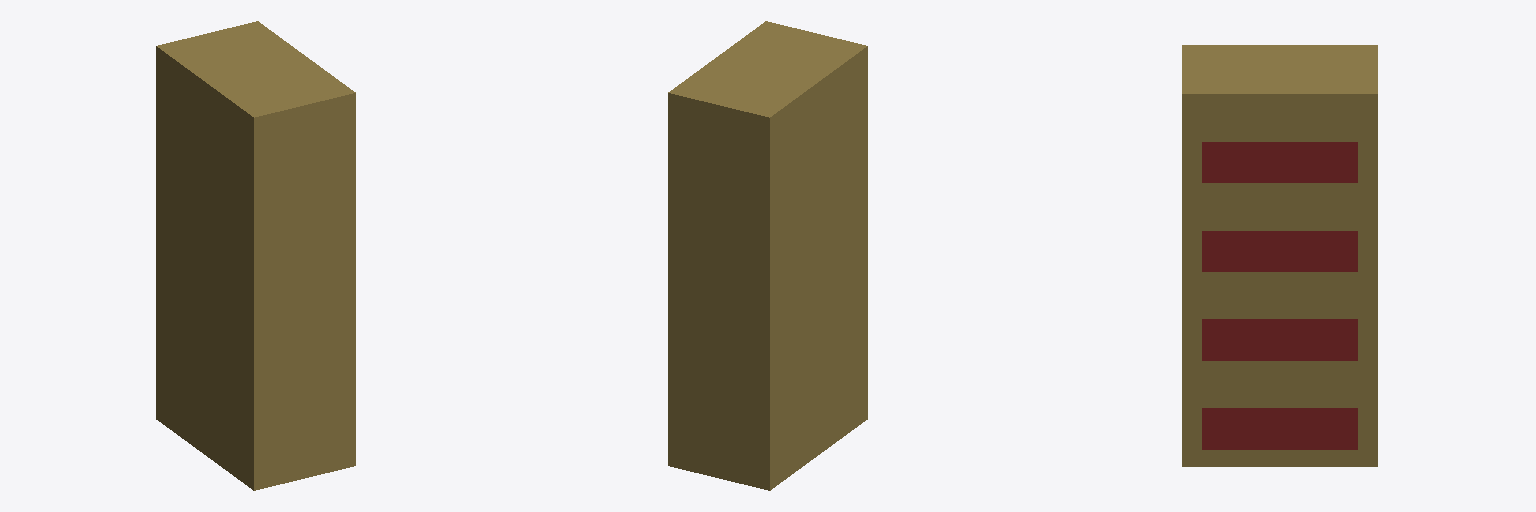
3 renders of one model, left to right at view 1: azimuth 30°, elevation 25°; view 2: azimuth 150°, elevation 25°; view 3: azimuth 270°, elevation 25°, orthographic.
Parts seen in each view (by area): view 1: cuboid; view 2: cuboid; view 3: cuboid.
Boxes of the visible parts, x1=… form: cuboid: x1=156, y1=21, x2=355, y2=490; cuboid: x1=668, y1=21, x2=867, y2=490; cuboid: x1=1182, y1=45, x2=1377, y2=466.
Size of the model in its own units: 0.375 by 1.31 by 0.625.
1 materials, 1 textured.